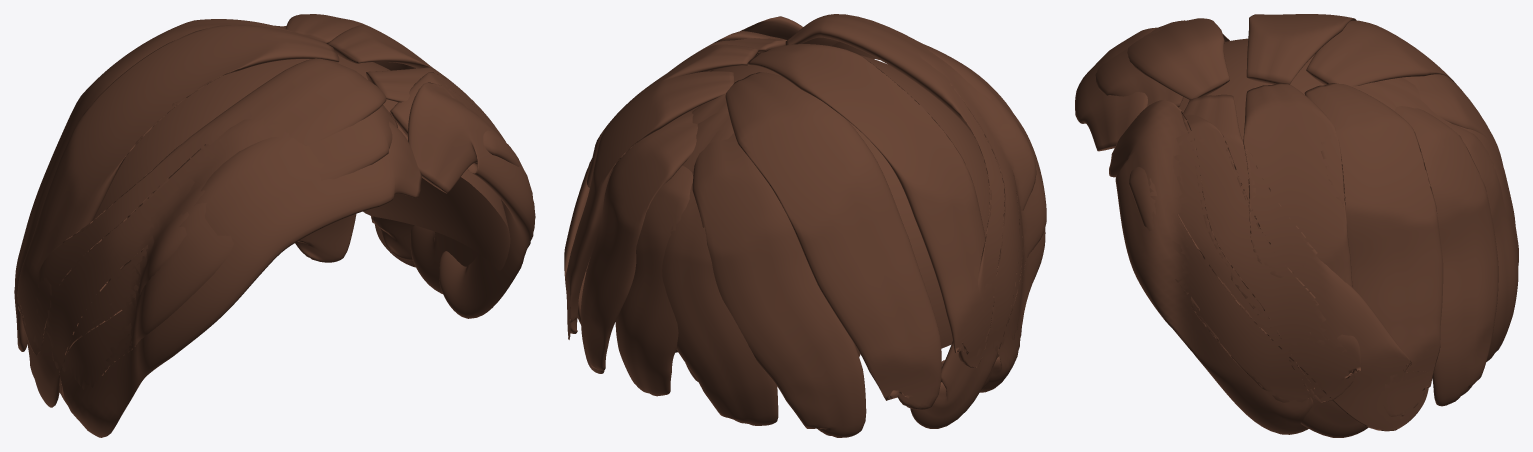
Rendered from Masculine-Masculine-flow-pashmina261-hair-06c0b1e1.glb.
The picture shows the model from 3 angles, left to right: view 1: azimuth 30°, elevation 25°; view 2: azimuth 150°, elevation 25°; view 3: azimuth 270°, elevation 25°; orthographic projection. The views are drawn at different scales.
Parts seen in each view (by area): view 1: 226 hair / Hair260 / layered flow; view 2: 226 hair / Hair260 / layered flow; view 3: 226 hair / Hair260 / layered flow.
Part boxes in pixels (box(x1,y1,x2,y2)): 226 hair / Hair260 / layered flow: box(14, 14, 535, 437); 226 hair / Hair260 / layered flow: box(564, 14, 1046, 437); 226 hair / Hair260 / layered flow: box(1075, 14, 1518, 437).
Bounding box in the file's own units: 1.07 × 0.8006 × 0.9865.
